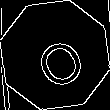O_NW: (24, 22, 86, 88)
